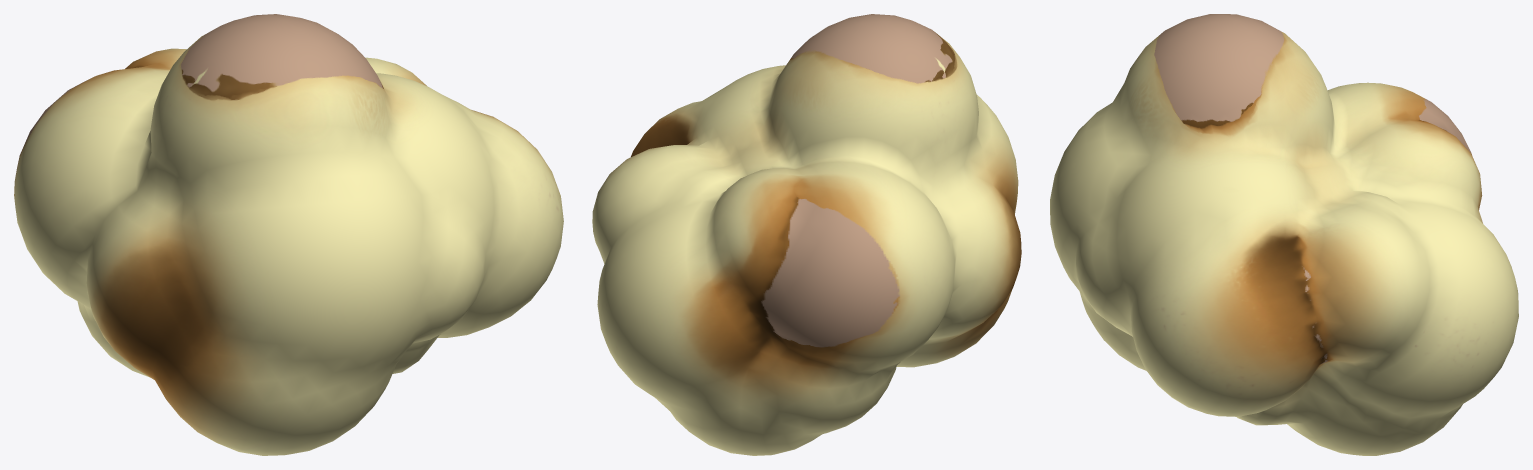
File: pop1.FBX
3 renders of one model, left to right at view 1: azimuth 30°, elevation 25°; view 2: azimuth 150°, elevation 25°; view 3: azimuth 270°, elevation 25°, orthographic. The views are drawn at different scales.
Parts seen in each view (by area): view 1: pop1; view 2: pop1; view 3: pop1.
Boxes of the visible parts, x1,y1,x2,y2 form: pop1: [14, 14, 563, 455]; pop1: [592, 14, 1021, 455]; pop1: [1050, 14, 1518, 455].
Size of the model in its own units: 389 by 376 by 403.
